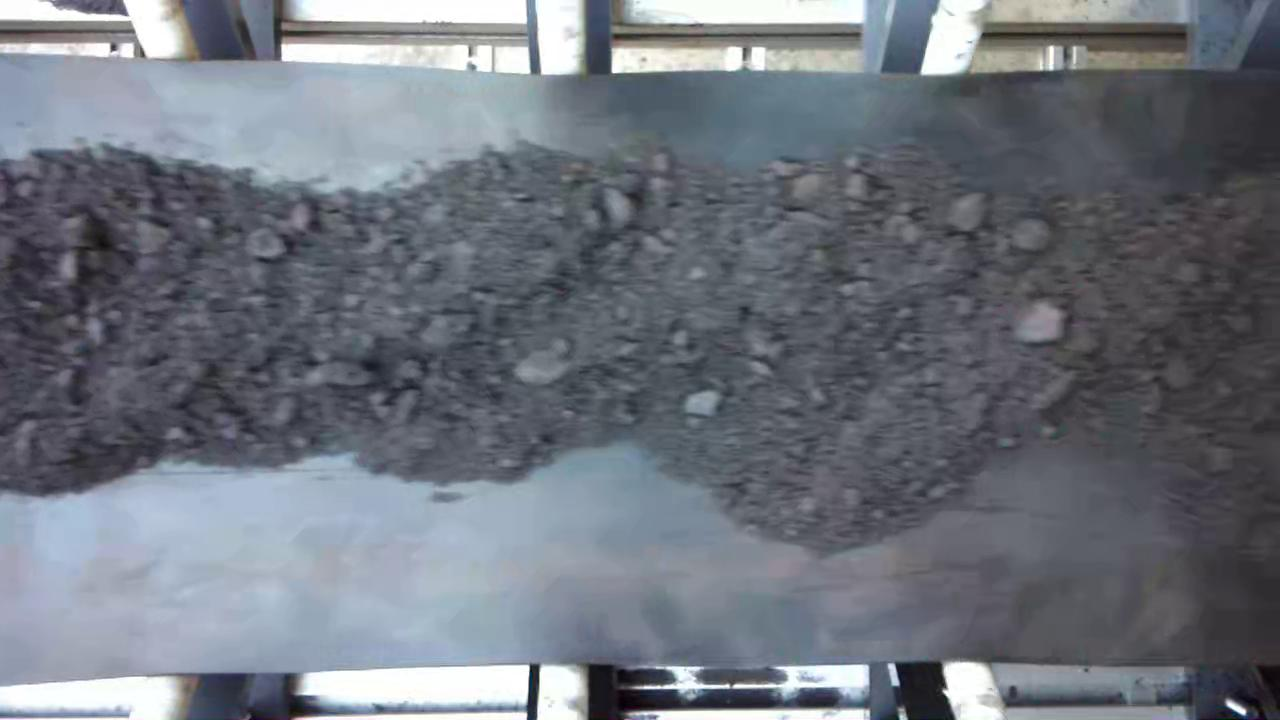conveyor: (3, 79, 1280, 657)
